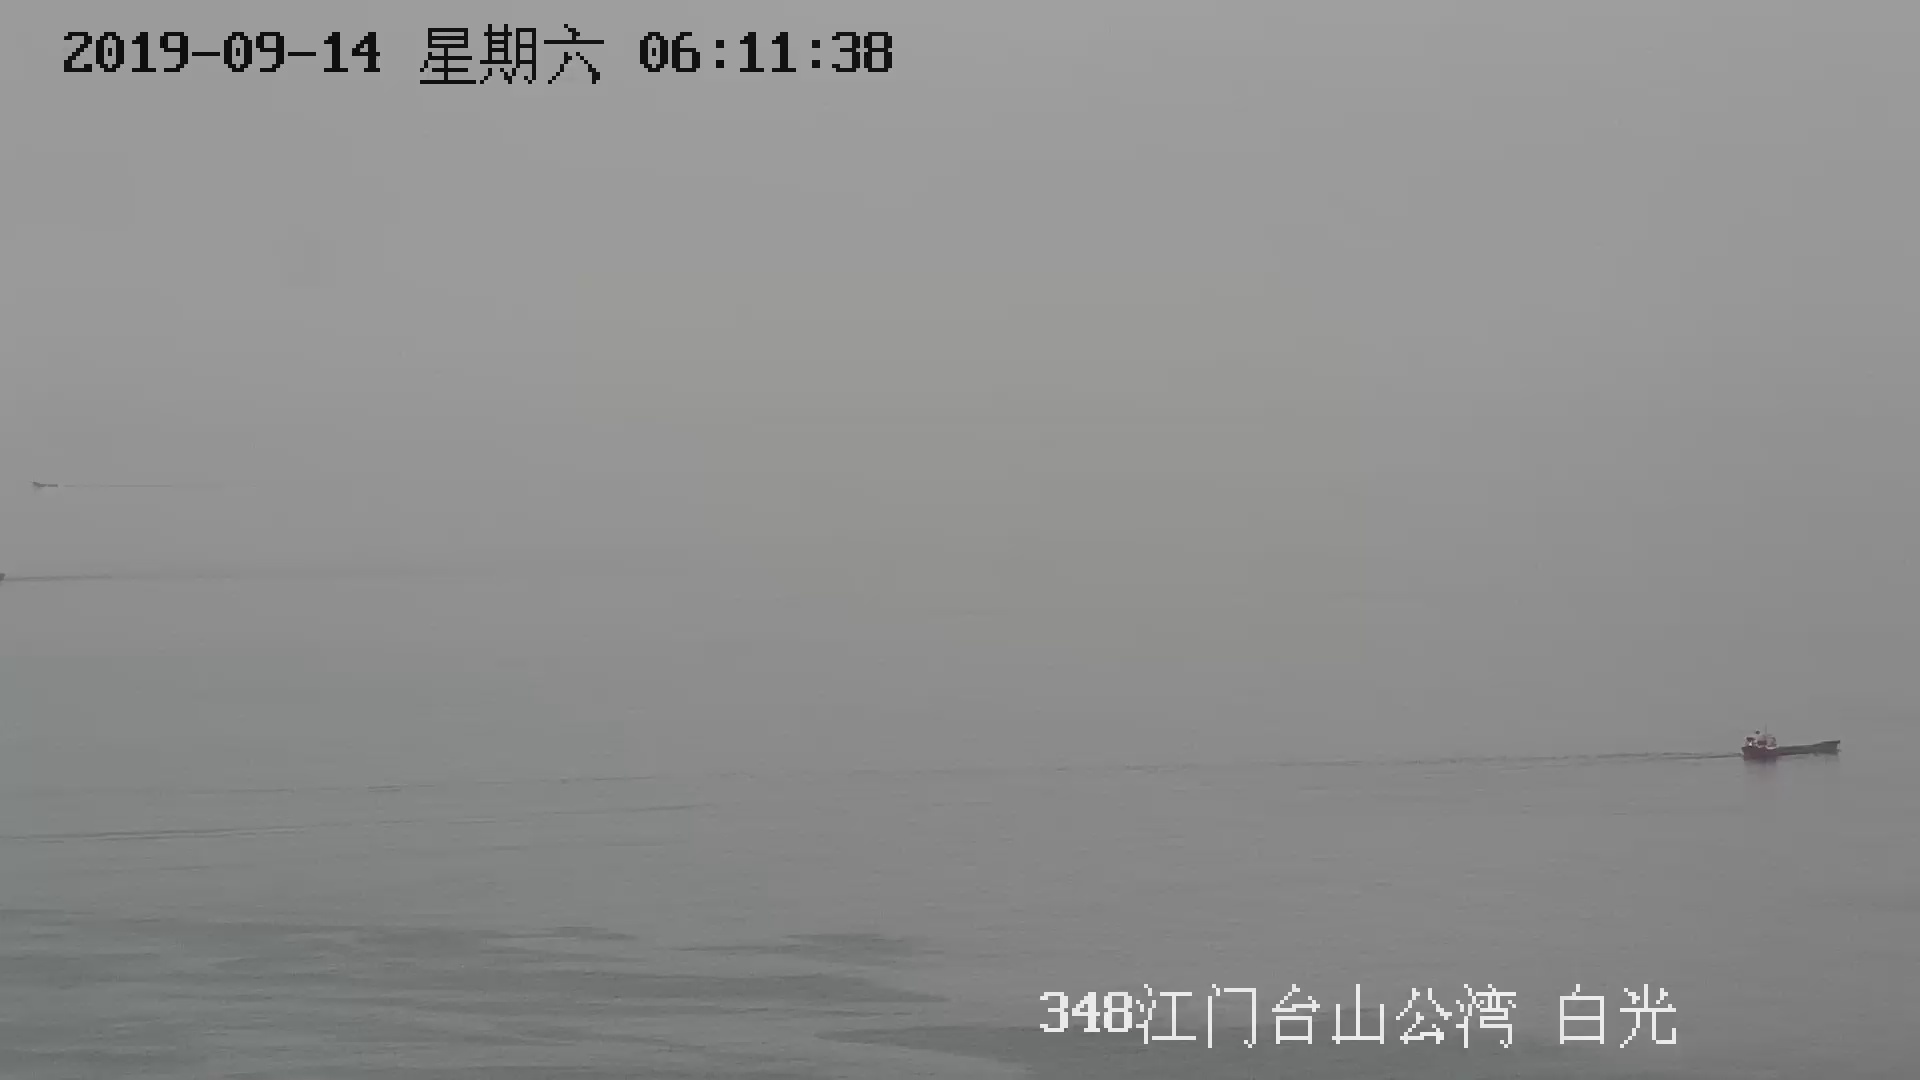ship: (1742, 727, 1841, 764)
